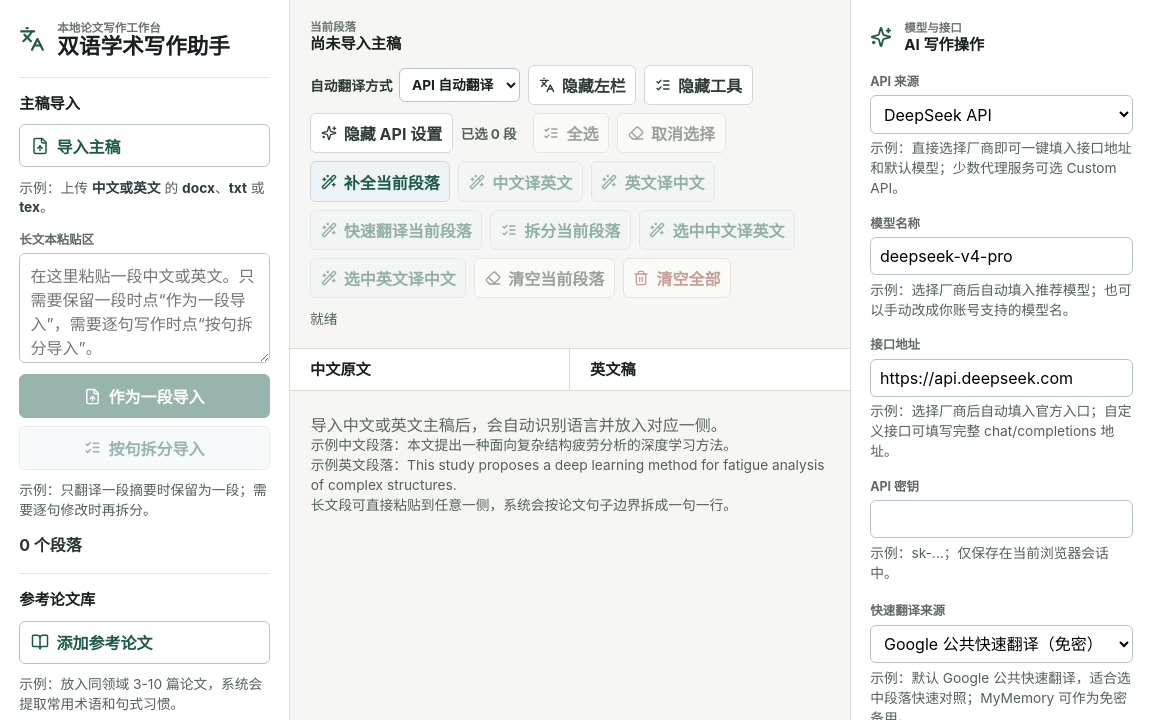
Test case: App workbench › hides and shows the left project rail and toolbar actions
The width and height of the screenshot is (1152, 720).
Check: the element named "项目侧栏" is shown, box [0,0,290,719]
Check: the button "全选" is shown, box [533,113,609,153]
What coordinates should you click on to do the following:
click the button "隐藏左栏"
I would click on:
 (582, 85)
Its box is [528,65,636,105].
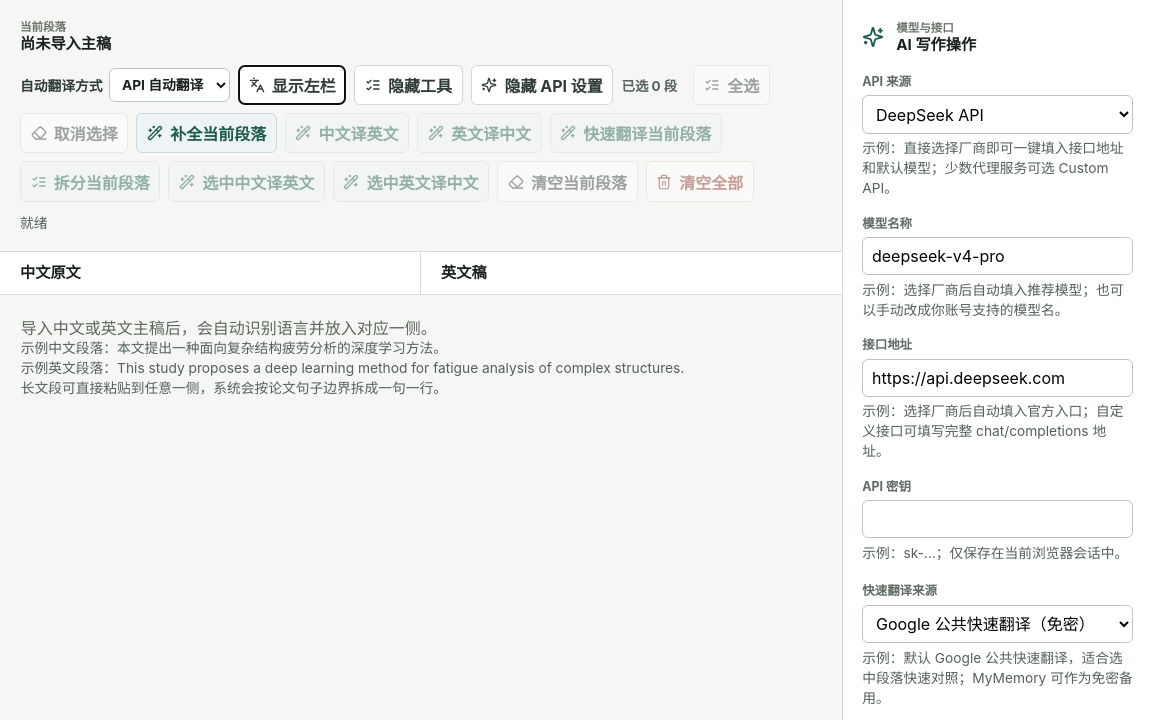
Check: the field labelled "项目侧栏" is gone
Check: the button "显示左栏" is shown, box [238,65,346,105]
What coordinates should you click on to do the following:
click the button "隐藏工具"
I would click on:
 (408, 85)
Its box is [354,65,463,105].
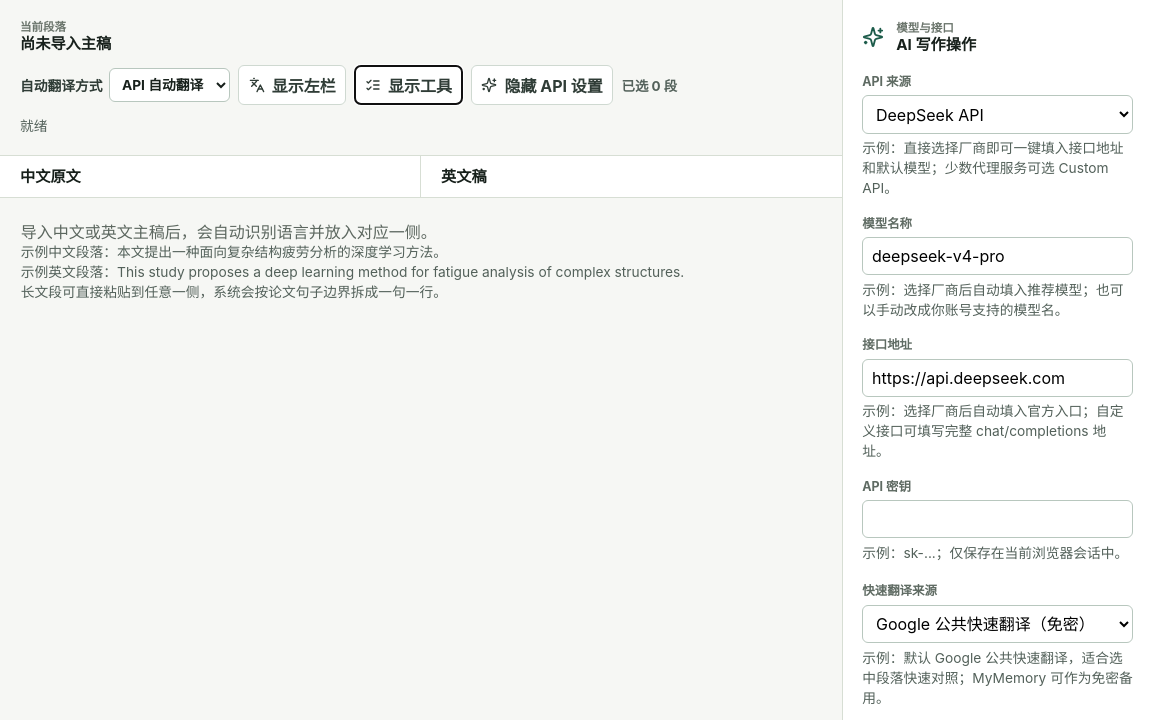
Check: the button "全选" is gone
Check: the button "显示工具" is shown, box [354,65,463,105]
